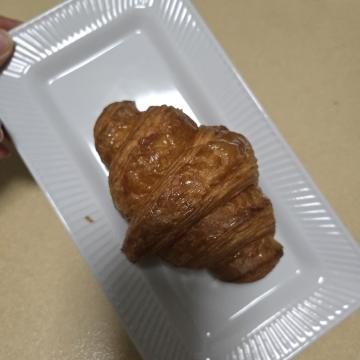croissant: (82, 73, 299, 277)
